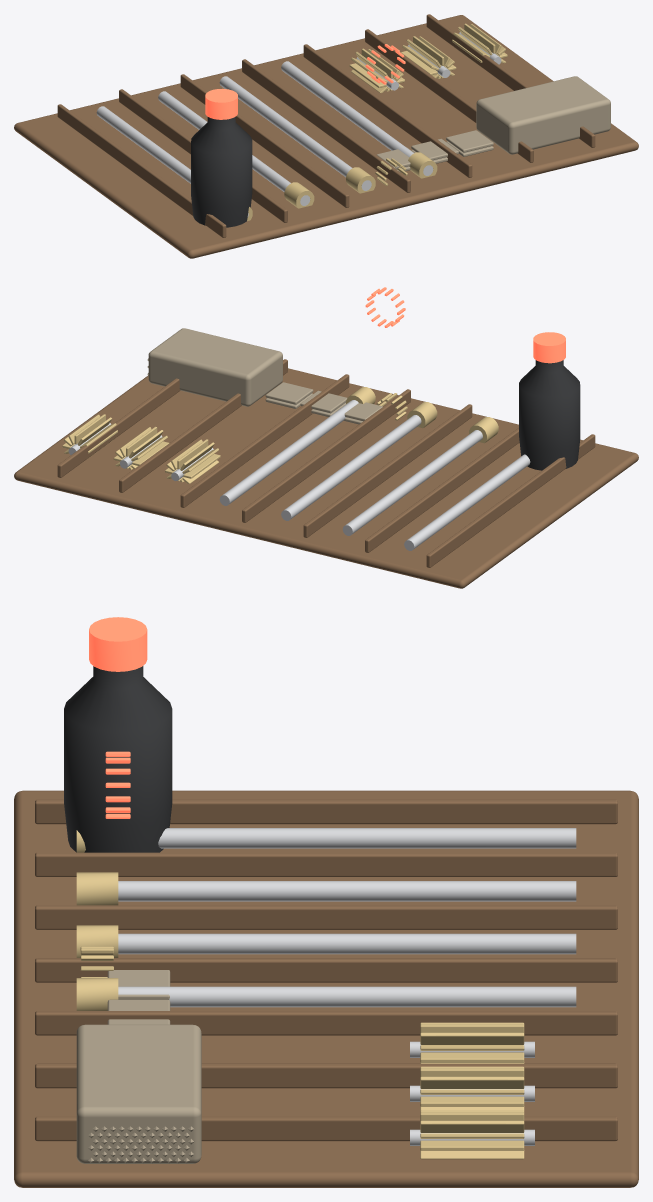
The model's file is mega-weapon-pack-cleaning-kit-ae8d12a3__33430.glb.
3 views of the same model, one above another, from view 1: azimuth 30°, elevation 25°; view 2: azimuth 150°, elevation 25°; view 3: azimuth 270°, elevation 25° (orthographic). The views are drawn at different scales.
Parts seen in each view (by area): view 1: cleaning-kit; view 2: cleaning-kit; view 3: cleaning-kit.
Boxes of the visible parts, x1,y1,x2,y2 form: cleaning-kit: (14, 14, 638, 258); cleaning-kit: (14, 287, 638, 588); cleaning-kit: (14, 617, 638, 1187).
Bounding box in the file's own units: 0.44 × 0.1281 × 0.3.
